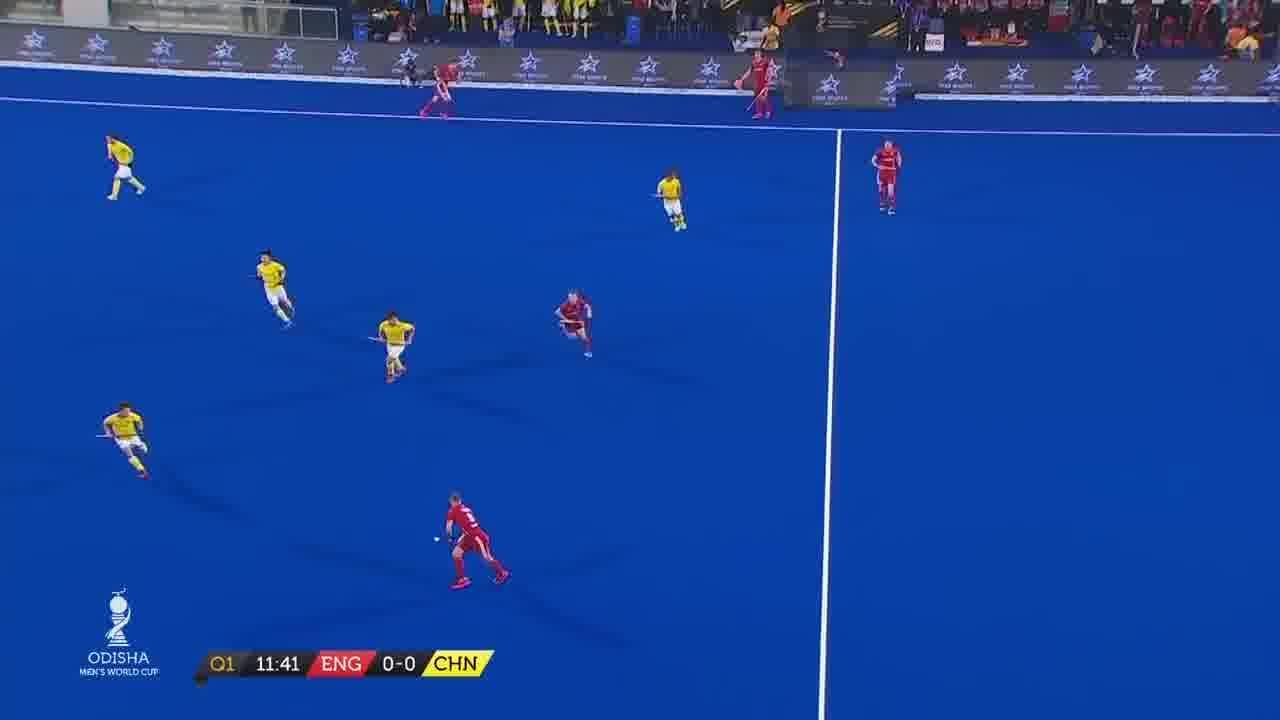ball: (426, 529, 446, 549)
